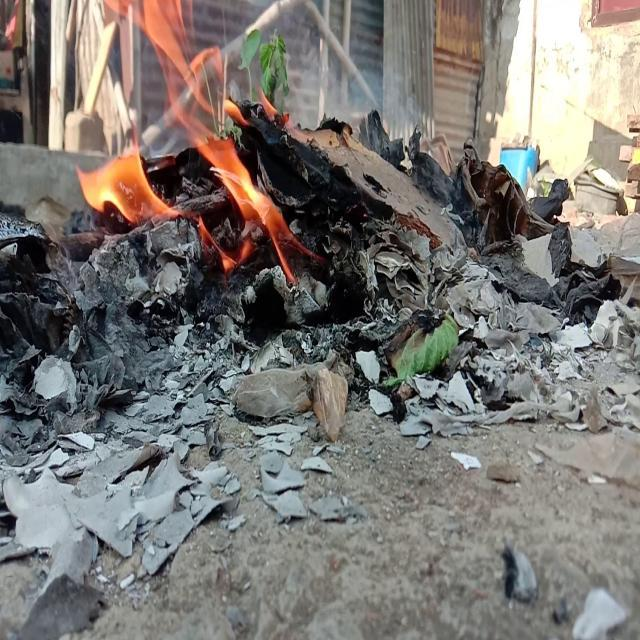Fire: (76, 0, 312, 295)
